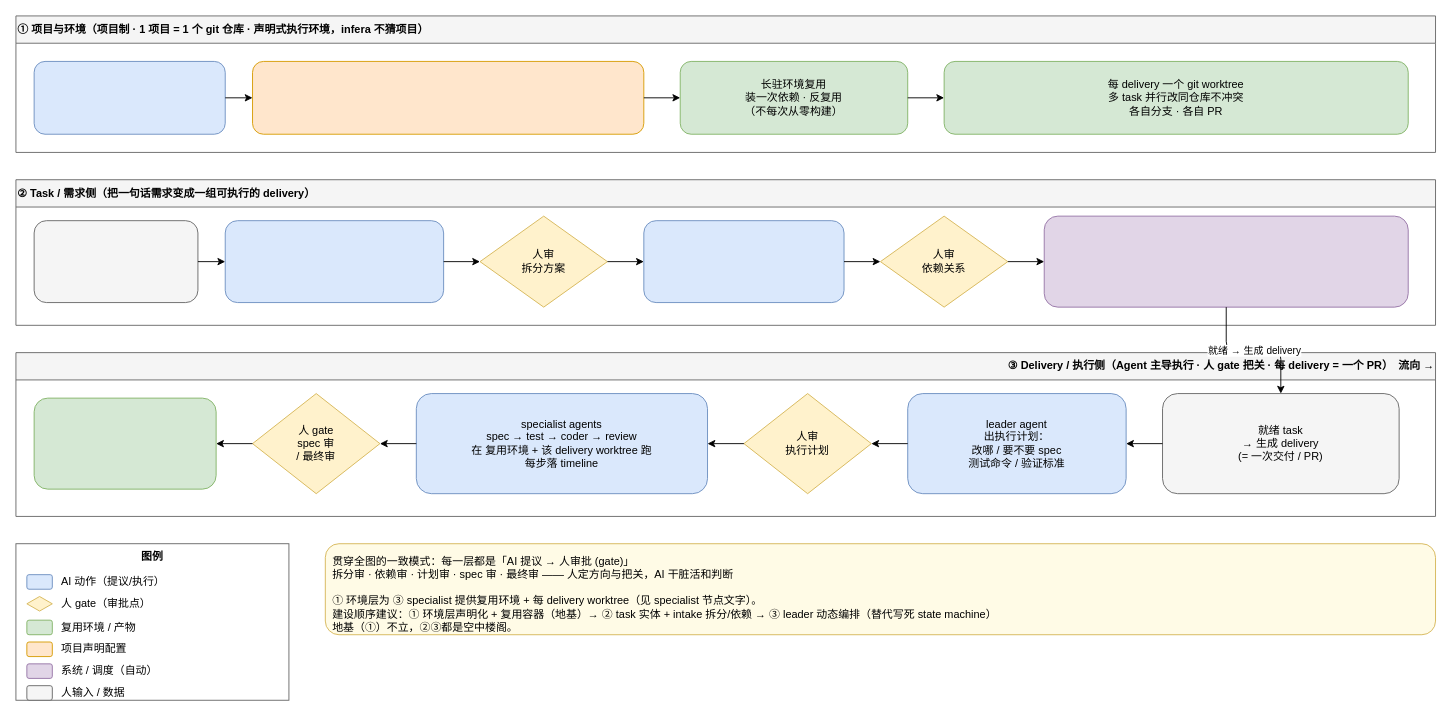
This 1451x718 diagram has some shape labels left out. Here are the shapes that lost their labels. From the top down, the centre of each, then its label:
the point at 129,97: Project = 1 个 git 仓库 绑仓库 · 项目制
the point at 448,97: 项目声明执行环境 基础镜像 / Dockerfile 依赖命令 · 测试命令 workdir 子路径 (monorepo)
the point at 115,261: 人输入一句需求 task / issue (可 = GitHub issue)
the point at 334,261: intake agent 增强：补验收/约束 拆分：epic → 子 task
the point at 743,261: 依赖图 blocks / parallel 哪些并行 · 哪些等
the point at 1225,261: 调度器 就绪 → 生成 delivery 完成 → 唤醒下游 (先串行，后并行)
the point at 124,443: 开 PR → delivery 完成
